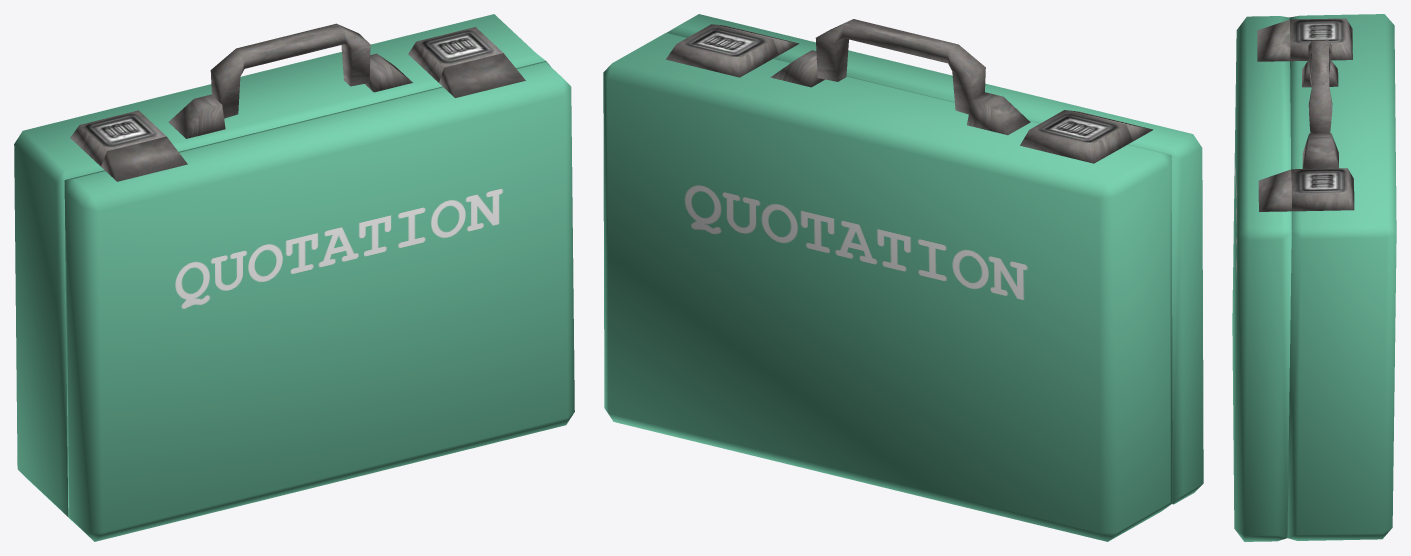
3 renders of one model, left to right at view 1: azimuth 30°, elevation 25°; view 2: azimuth 150°, elevation 25°; view 3: azimuth 270°, elevation 25°, orthographic. The views are drawn at different scales.
Parts seen in each view (by area): view 1: suitcase; view 2: suitcase; view 3: suitcase.
Part boxes in pixels (bbox=[...]): suitcase: bbox=[14, 14, 574, 541]; suitcase: bbox=[603, 14, 1203, 541]; suitcase: bbox=[1232, 14, 1396, 541].
Size of the model in its own units: 0.4804 by 0.38 by 0.1504.
1 material, 1 textured.
